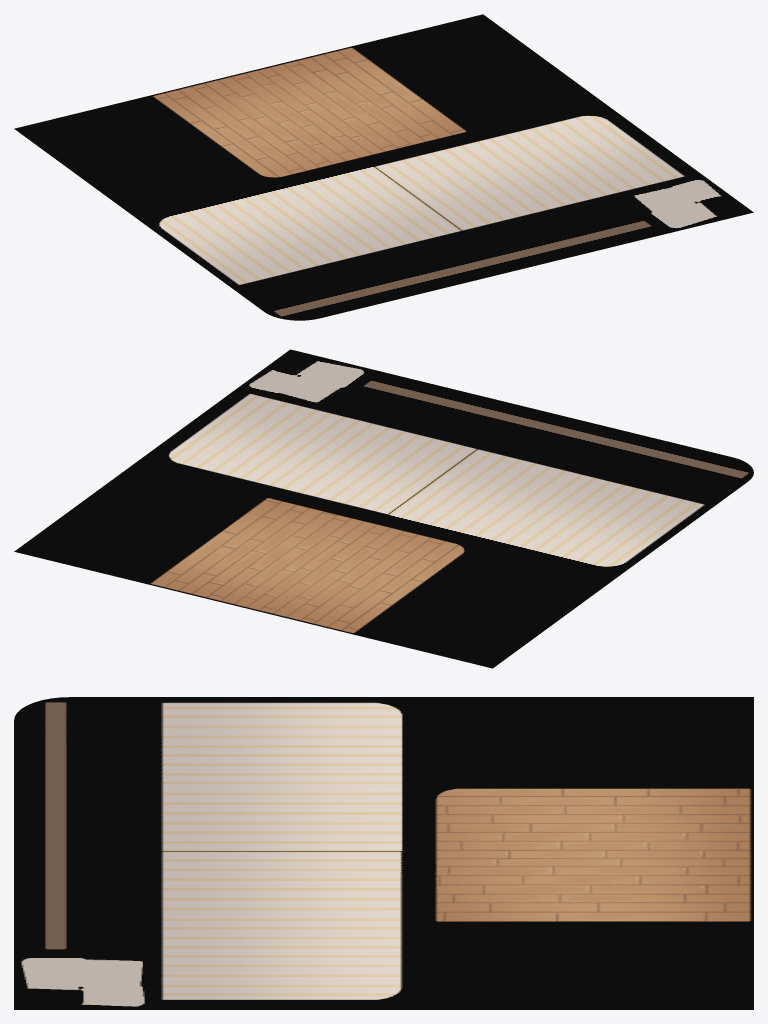
Rendered from floor.fbx.
3 views of the same model, one above another, from view 1: azimuth 30°, elevation 25°; view 2: azimuth 150°, elevation 25°; view 3: azimuth 270°, elevation 25° (orthographic). The views are drawn at different scales.
Visible parts, largest first — view 1: Cube.035; view 2: Cube.035; view 3: Cube.035.
Part boxes in pixels (x1=…): Cube.035: x1=14, y1=14, x2=753, y2=320; Cube.035: x1=14, y1=349, x2=753, y2=668; Cube.035: x1=14, y1=697, x2=753, y2=1009.
Size of the model in its own units: 999 by 0.000163 by 999.
